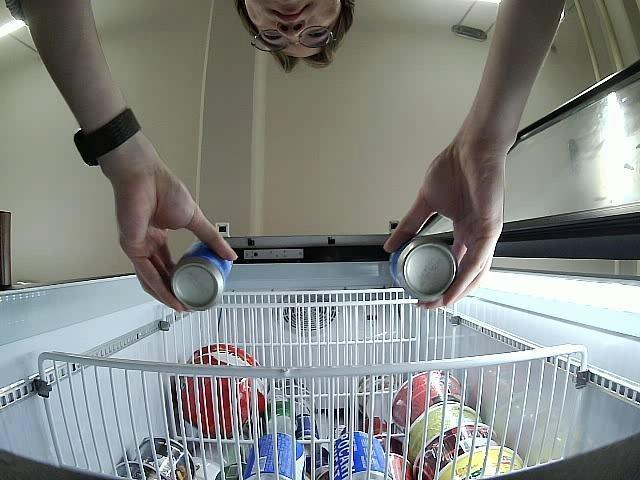15_letsbe: (389, 235, 455, 302), (172, 241, 232, 308)
